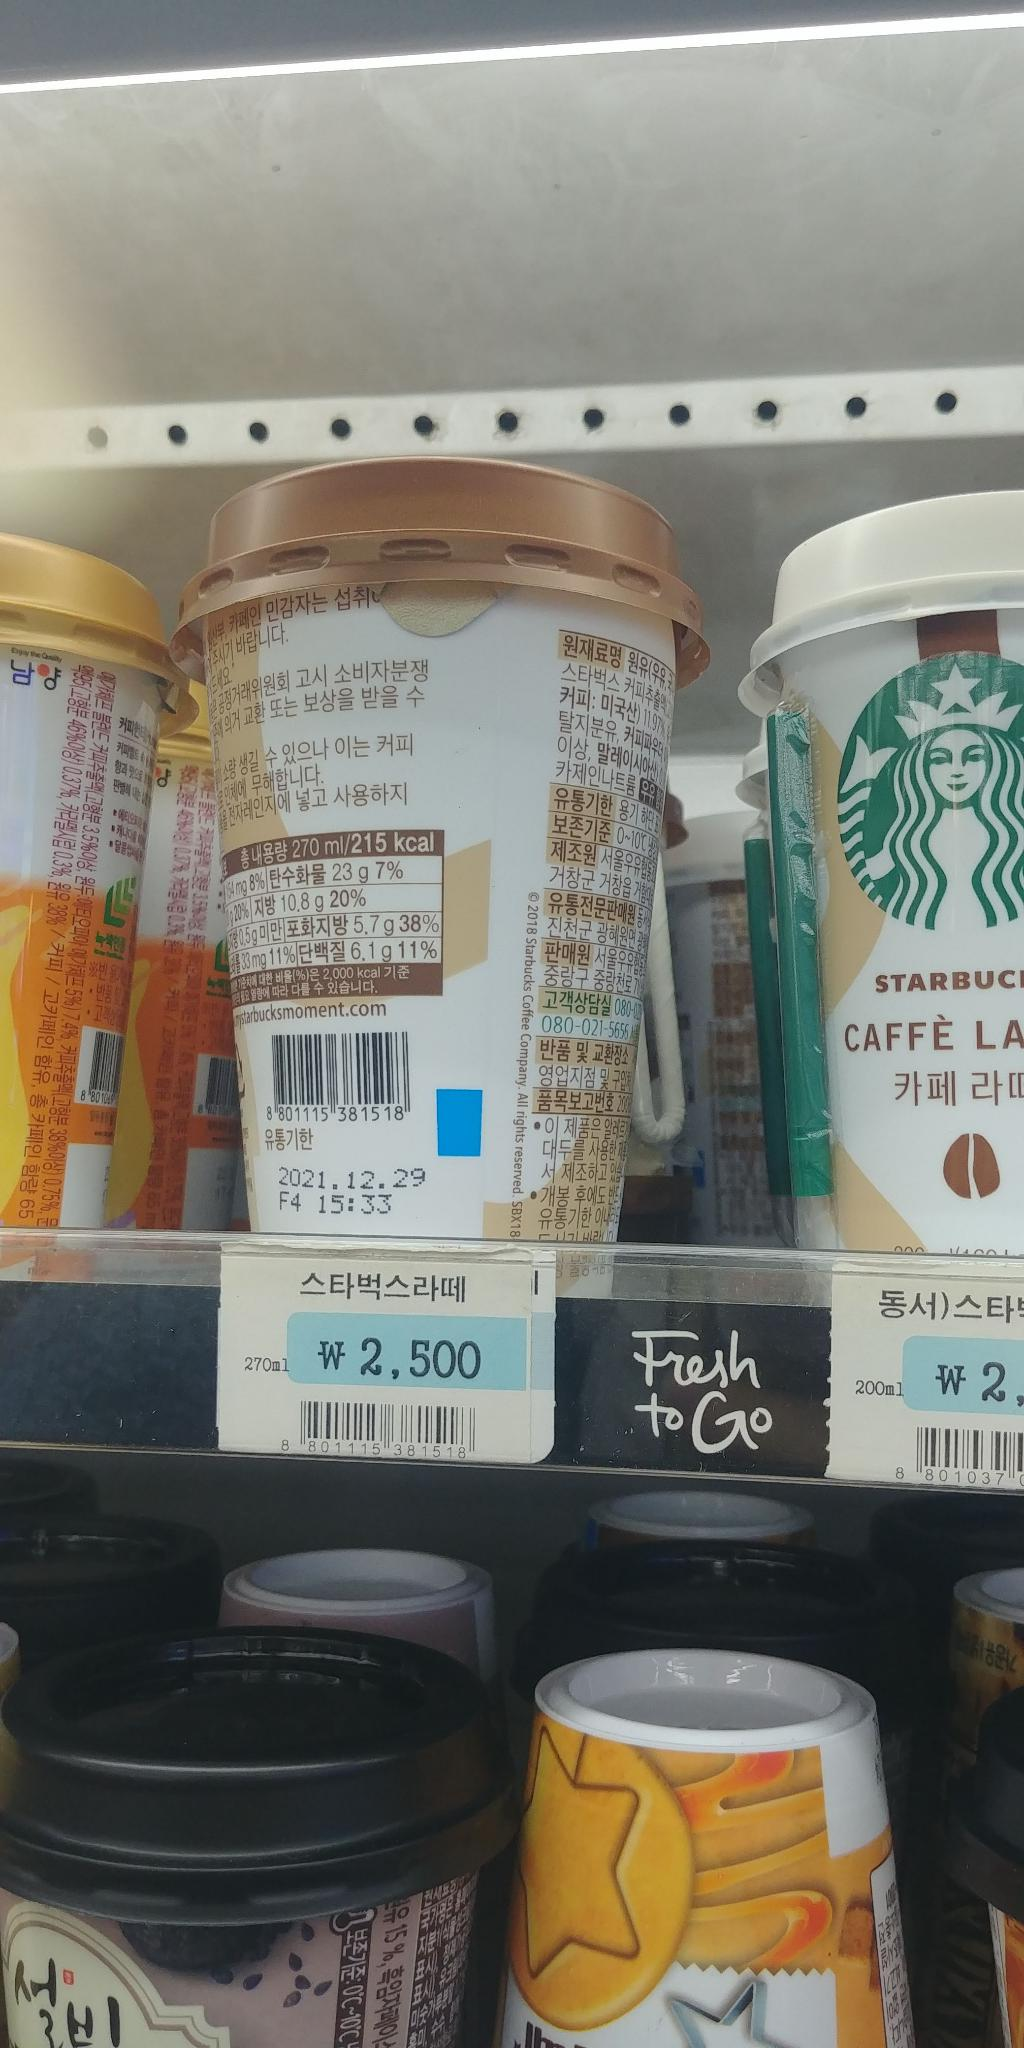starbucks_cafelatte: (201, 457, 682, 1320)
